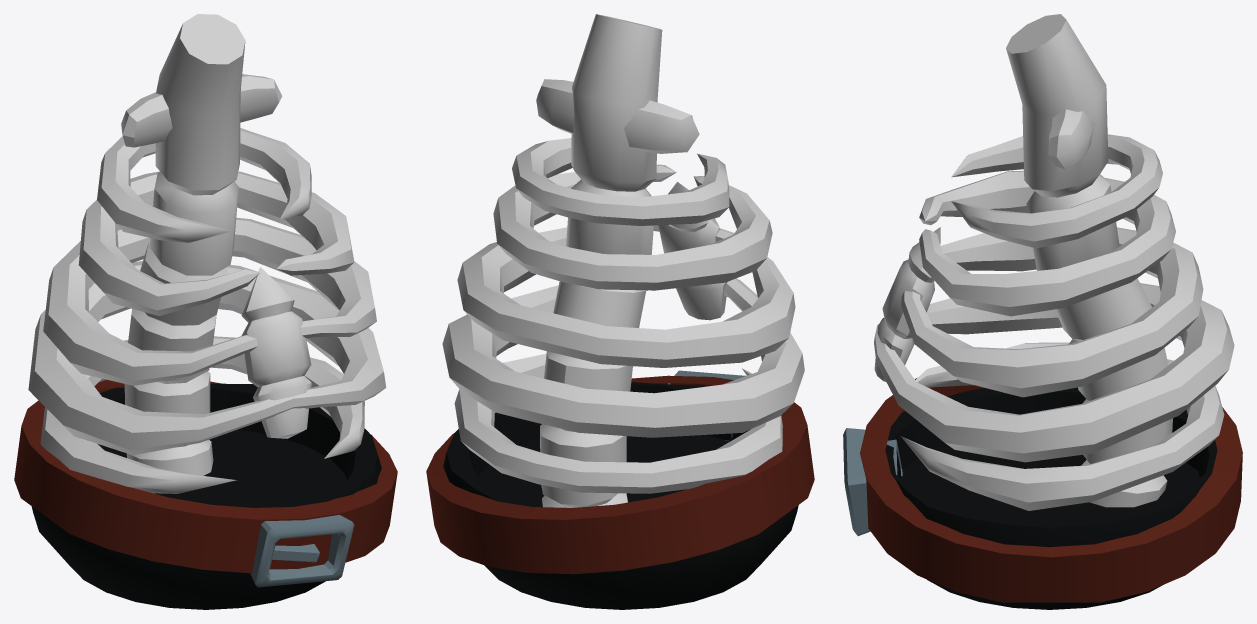
Rendered from body.fbx.
3 views of the same model, side by side, from view 1: azimuth 30°, elevation 25°; view 2: azimuth 150°, elevation 25°; view 3: azimuth 270°, elevation 25° (orthographic).
Parts seen in each view (by area): view 1: body; view 2: body; view 3: body.
Boxes of the visible parts, x1,y1,x2,y2 form: body: [14, 14, 397, 609]; body: [426, 14, 814, 609]; body: [843, 14, 1242, 609].
Size of the model in its own units: 66.08 by 103 by 70.07.
